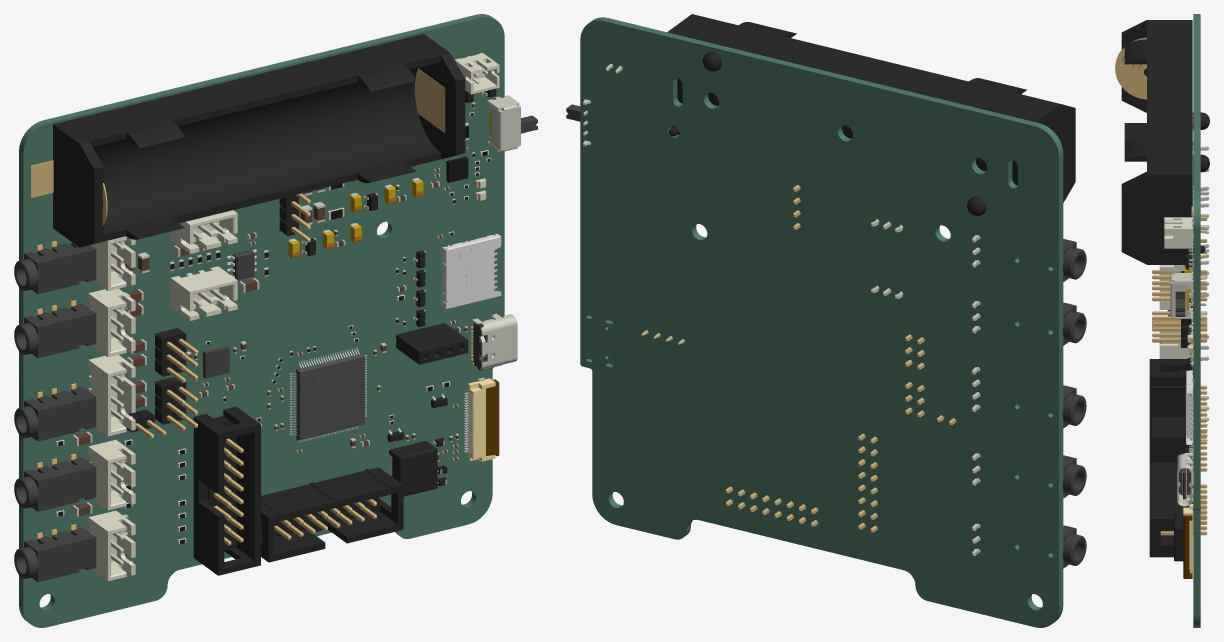
File: stm32-audio-codec.glb
3 renders of one model, left to right at view 1: azimuth 30°, elevation 25°; view 2: azimuth 150°, elevation 25°; view 3: azimuth 270°, elevation 25°, orthographic. The views are drawn at different scales.
Visible parts, largest first — view 1: =>[0:1:1:36], J5002, NAUO1 (×5), J3001, J3002, =>[0:1:1:2] (×2), J6006, J6008, J4002, J4003, J4006, USB5001 (+12 smaller); view 2: =>[0:1:1:36], J5002, NAUO1 (×5); view 3: J5002, =>[0:1:1:36], J3001, J3002, J4011, J3004, J2001, J5001, USB5001, J4012, J4002, =>[0:1:1:2] (+7 smaller).
Part boxes in pixels (<box>): =>[0:1:1:36]: <box>19,14,504,627</box>; J5002: <box>30,34,465,247</box>; NAUO1 (×5): <box>14,241,96,582</box>; J3001: <box>193,406,260,575</box>; J3002: <box>261,467,403,562</box>; =>[0:1:1:2] (×2): <box>296,234,501,440</box>; J6006: <box>88,355,135,436</box>; J6008: <box>170,266,237,320</box>; J4002: <box>88,440,135,510</box>; J4003: <box>88,510,135,581</box>; J4006: <box>88,288,135,357</box>; USB5001: <box>471,313,517,370</box>; =>[0:1:1:36]: <box>580,17,1063,627</box>; J5002: <box>667,14,1075,216</box>; NAUO1 (×5): <box>1018,239,1086,568</box>; J5002: <box>1115,20,1209,264</box>; =>[0:1:1:36]: <box>1193,14,1200,627</box>; J3001: <box>1149,359,1207,471</box>; J3002: <box>1149,462,1207,557</box>; J4011: <box>1152,311,1207,347</box>; J3004: <box>1152,416,1207,448</box>; J2001: <box>1170,273,1206,318</box>; J5001: <box>1164,217,1209,248</box>; USB5001: <box>1177,453,1193,506</box>; J4012: <box>1152,270,1207,301</box>; J4002: <box>1159,331,1209,360</box>; =>[0:1:1:2]: <box>1186,370,1192,444</box>.
Bounding box in the file's own units: 0.1066 × 0.1 × 0.0198.
